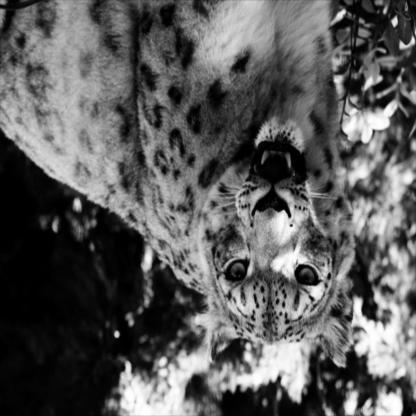leopard: (202, 106, 361, 371)
